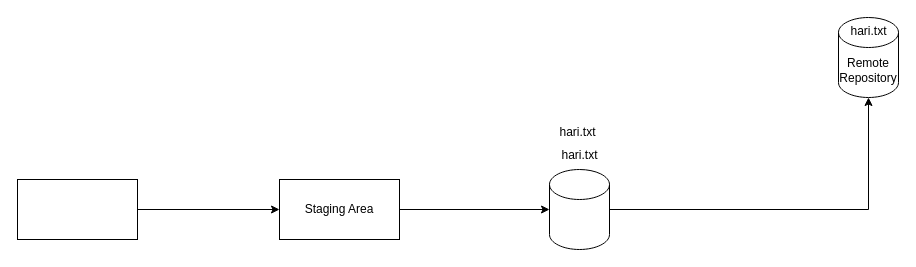
The diagram is 916 pixels wide and 267 high, and some of its shapes have lost their labels. The centre of each missing label's shape, as x and y in pixels:
"Local Repository" belongs at point 579,209.
"Working Area" belongs at point 77,209.
